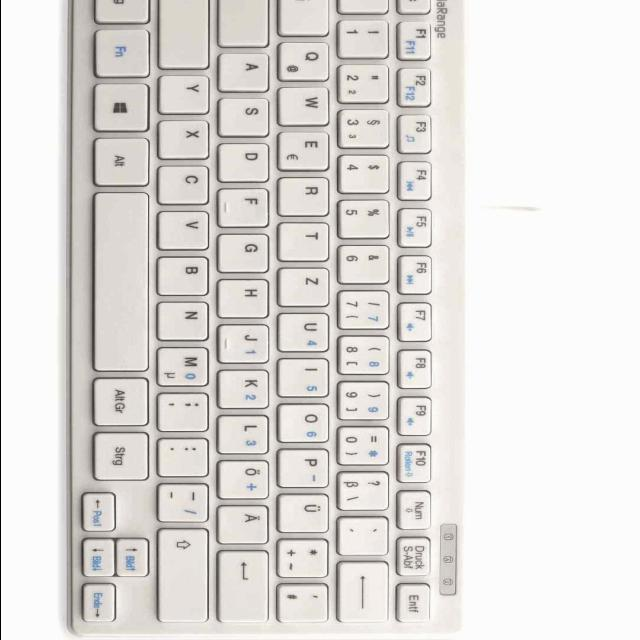0: (339, 424, 393, 465)
1: (339, 17, 393, 57)
2: (339, 61, 393, 103)
3: (340, 105, 394, 147)
4: (341, 152, 395, 192)
5: (340, 196, 394, 237)
6: (340, 242, 394, 283)
7: (339, 288, 393, 328)
8: (339, 333, 393, 375)
9: (339, 378, 393, 420)
a: (219, 50, 273, 90)
accent: (340, 514, 392, 554)
ae: (219, 502, 273, 542)
alt-left: (94, 134, 154, 186)
altgr-right: (94, 374, 152, 426)
b: (159, 253, 213, 295)
c: (159, 162, 213, 204)
caret: (340, 0, 392, 16)
comma: (159, 389, 213, 431)
d: (219, 140, 273, 181)
del: (219, 548, 273, 622)
e: (280, 128, 334, 170)
enter: (339, 559, 393, 622)
f: (219, 186, 273, 226)
g: (219, 231, 273, 272)
h: (219, 276, 273, 316)
hash: (278, 581, 332, 622)
i: (279, 356, 333, 397)
j: (219, 322, 273, 362)
k: (219, 367, 273, 408)
keyboard: (59, 0, 475, 638)
l: (219, 413, 273, 453)
m: (158, 344, 213, 386)
minus: (158, 480, 212, 522)
n: (159, 298, 213, 339)
o: (279, 401, 333, 442)
oe: (219, 457, 273, 499)
p: (279, 446, 333, 488)
plus: (279, 536, 333, 577)
point: (161, 434, 213, 476)
q: (280, 38, 334, 80)
r: (280, 174, 334, 214)
s: (219, 94, 273, 135)
shift-left: (159, 0, 215, 69)
shift-lock: (219, 0, 273, 45)
shift-right: (157, 526, 213, 622)
space: (94, 191, 154, 371)
ss: (339, 467, 393, 509)
strg-left: (94, 1, 154, 23)
strg-right: (93, 429, 153, 481)
t: (280, 220, 334, 260)
tab: (280, 0, 334, 33)
u: (279, 310, 333, 351)
ue: (279, 490, 333, 532)
v: (159, 207, 213, 249)
w: (280, 83, 335, 123)
x: (161, 117, 213, 158)
y: (160, 72, 214, 112)
z: (280, 264, 334, 306)
